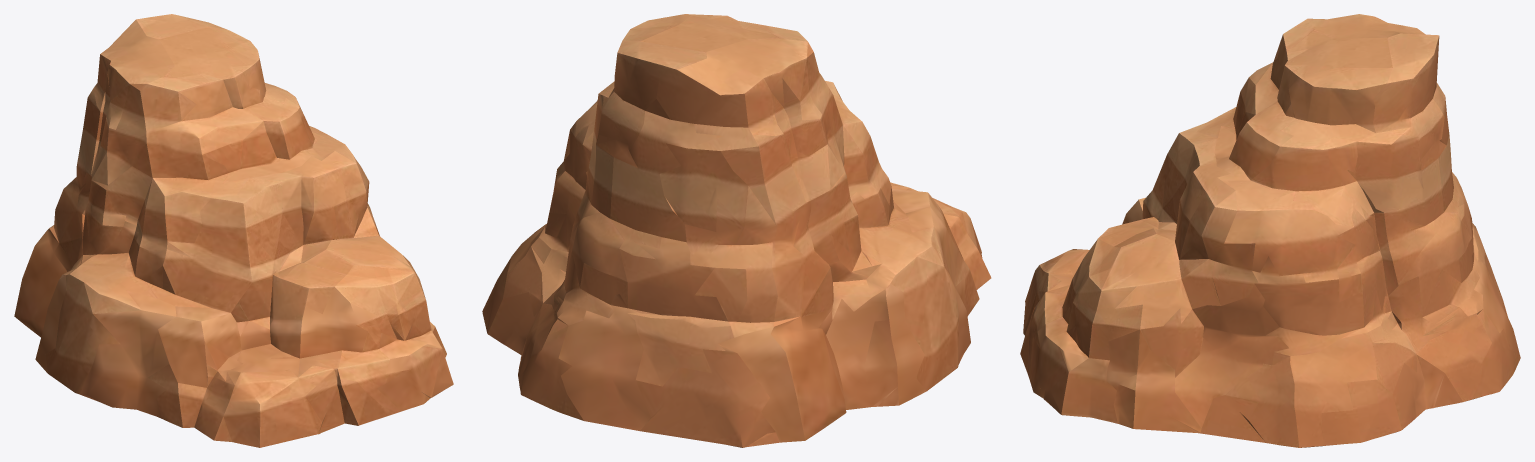
File: rocks-strata.glb
The picture shows the model from 3 angles, left to right: view 1: azimuth 30°, elevation 25°; view 2: azimuth 150°, elevation 25°; view 3: azimuth 270°, elevation 25°; orthographic projection. The views are drawn at different scales.
Bounding box in the file's own units: 1.71 × 1.27 × 1.9.
1 material, 1 textured.
